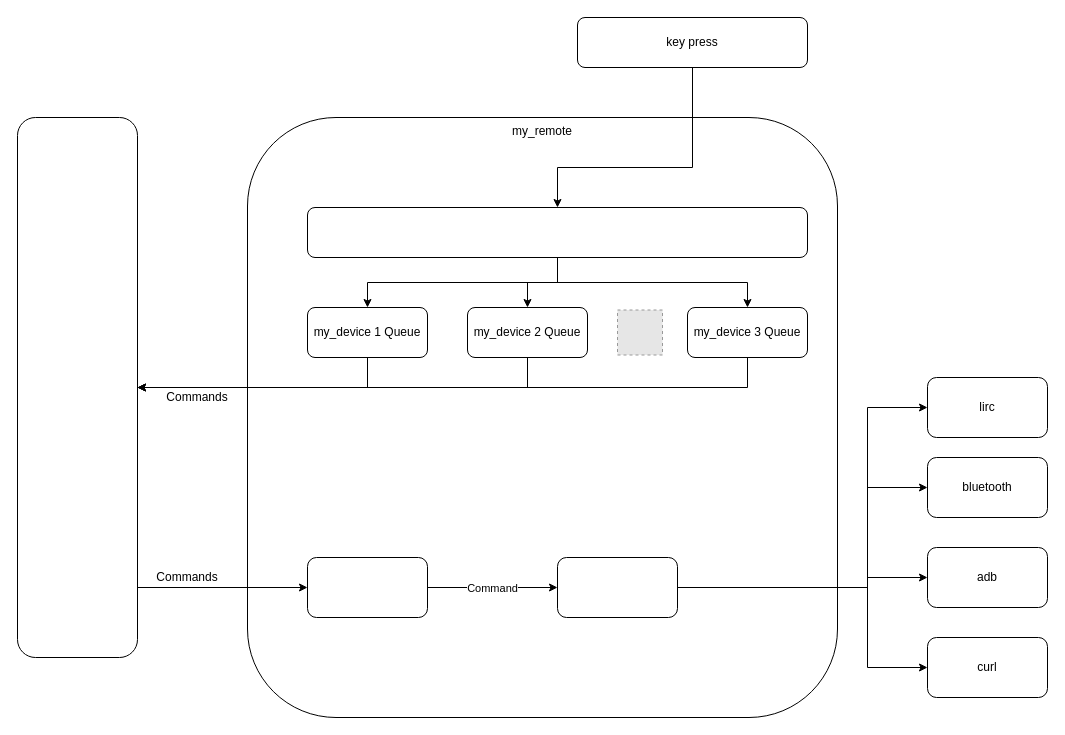
This 1065x735 diagram has some shape labels left out. Grey dashed boxes stand in for pictures. The shapes that lost their labels are listed below. From the top down, each one's centre as x and y in pixels, then its label:
At (557,232): "process_command".
At (77,387): "Main Command Queue".
At (367,587): "run()".
At (617,587): "run_command()".
